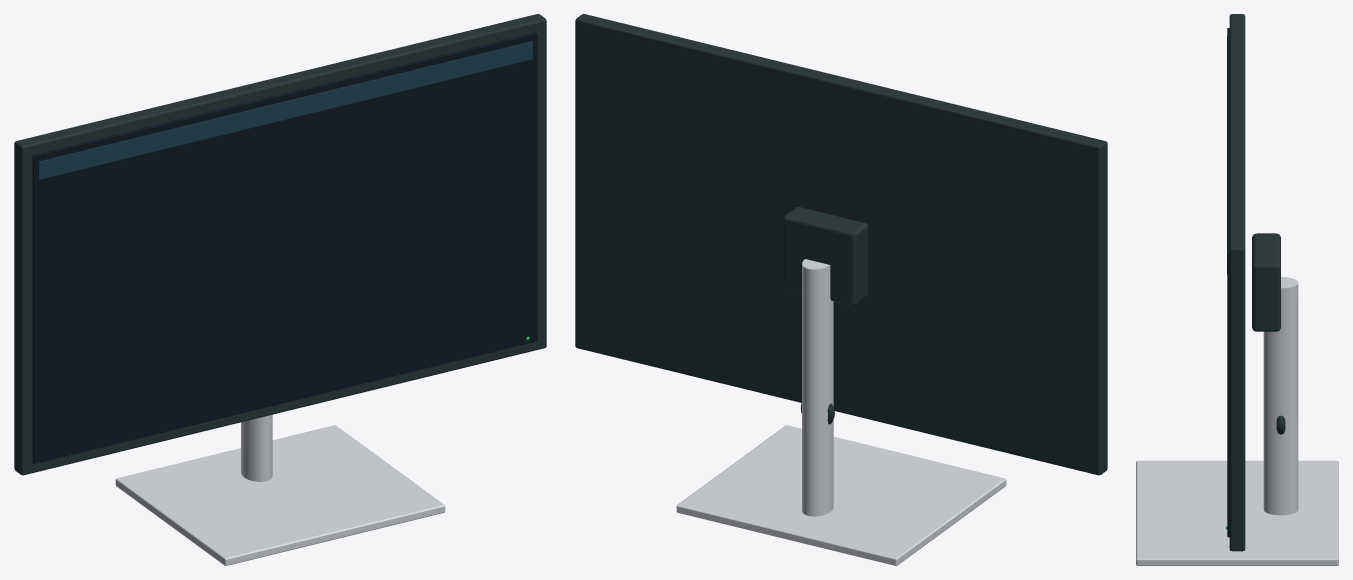
Rendered from wp-moniteur-sur-pied.glb.
3 renders of one model, left to right at view 1: azimuth 30°, elevation 25°; view 2: azimuth 150°, elevation 25°; view 3: azimuth 270°, elevation 25°, orthographic. The views are drawn at different scales.
Visible parts, largest first — view 1: wp-moniteur-sur-pied; view 2: wp-moniteur-sur-pied; view 3: wp-moniteur-sur-pied.
Part boxes in pixels (<box>): wp-moniteur-sur-pied: <box>14,14,546,565</box>; wp-moniteur-sur-pied: <box>575,14,1107,565</box>; wp-moniteur-sur-pied: <box>1136,14,1338,565</box>.
Size of the model in its own units: 0.55 by 0.42 by 0.2.
